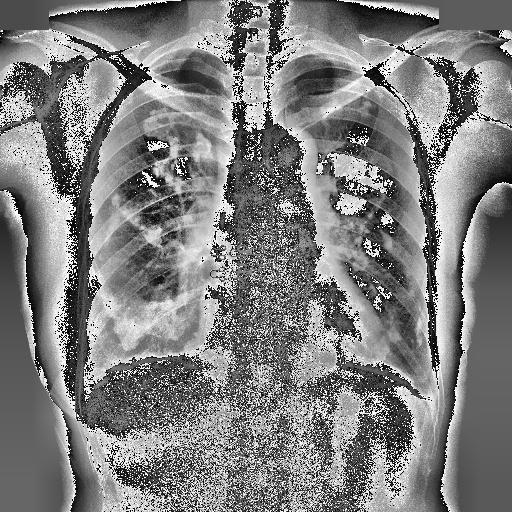0- Aortic enlargement: (261, 127, 318, 192), (260, 128, 318, 184)
10- Pleural effusion: (418, 386, 436, 415)
11- Pleural thickening: (295, 232, 426, 362), (90, 264, 198, 351), (95, 278, 200, 350), (140, 107, 214, 195), (140, 106, 214, 194), (142, 106, 214, 196), (96, 282, 186, 348), (90, 350, 202, 394), (338, 356, 436, 404), (330, 190, 387, 272), (334, 354, 428, 402), (338, 360, 434, 404), (90, 354, 200, 390), (88, 358, 214, 388), (107, 188, 166, 250), (110, 192, 166, 254), (112, 194, 164, 248), (408, 290, 427, 349), (418, 386, 436, 415)
13- Pulmonary fibrosis: (105, 187, 120, 240)
2- Calcification: (295, 232, 426, 362), (90, 264, 198, 351), (140, 106, 214, 194), (140, 107, 214, 195), (142, 106, 214, 196), (96, 282, 186, 348), (90, 350, 202, 394), (338, 356, 436, 404), (330, 190, 387, 272), (334, 354, 428, 402), (338, 360, 434, 404), (90, 354, 200, 390), (88, 358, 214, 388), (107, 188, 166, 250), (110, 192, 166, 254), (408, 290, 427, 349), (360, 85, 374, 120)
3- Cardiomegaly: (200, 288, 388, 362)
7- Lung Opacity: (95, 278, 200, 350), (112, 194, 164, 248), (376, 220, 394, 251), (413, 312, 423, 350)
8- Nodule-Mass: (320, 98, 346, 118), (358, 90, 371, 121), (358, 88, 370, 120)
